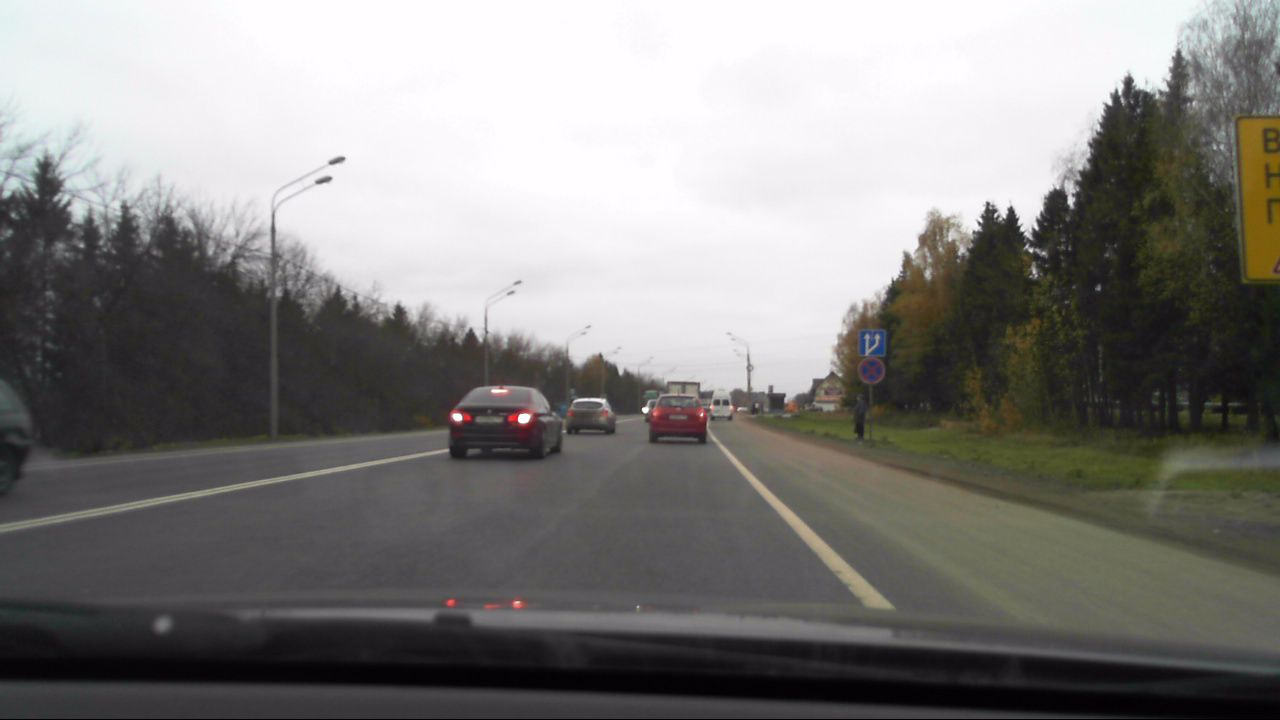No Parking: (858, 358, 887, 386)
